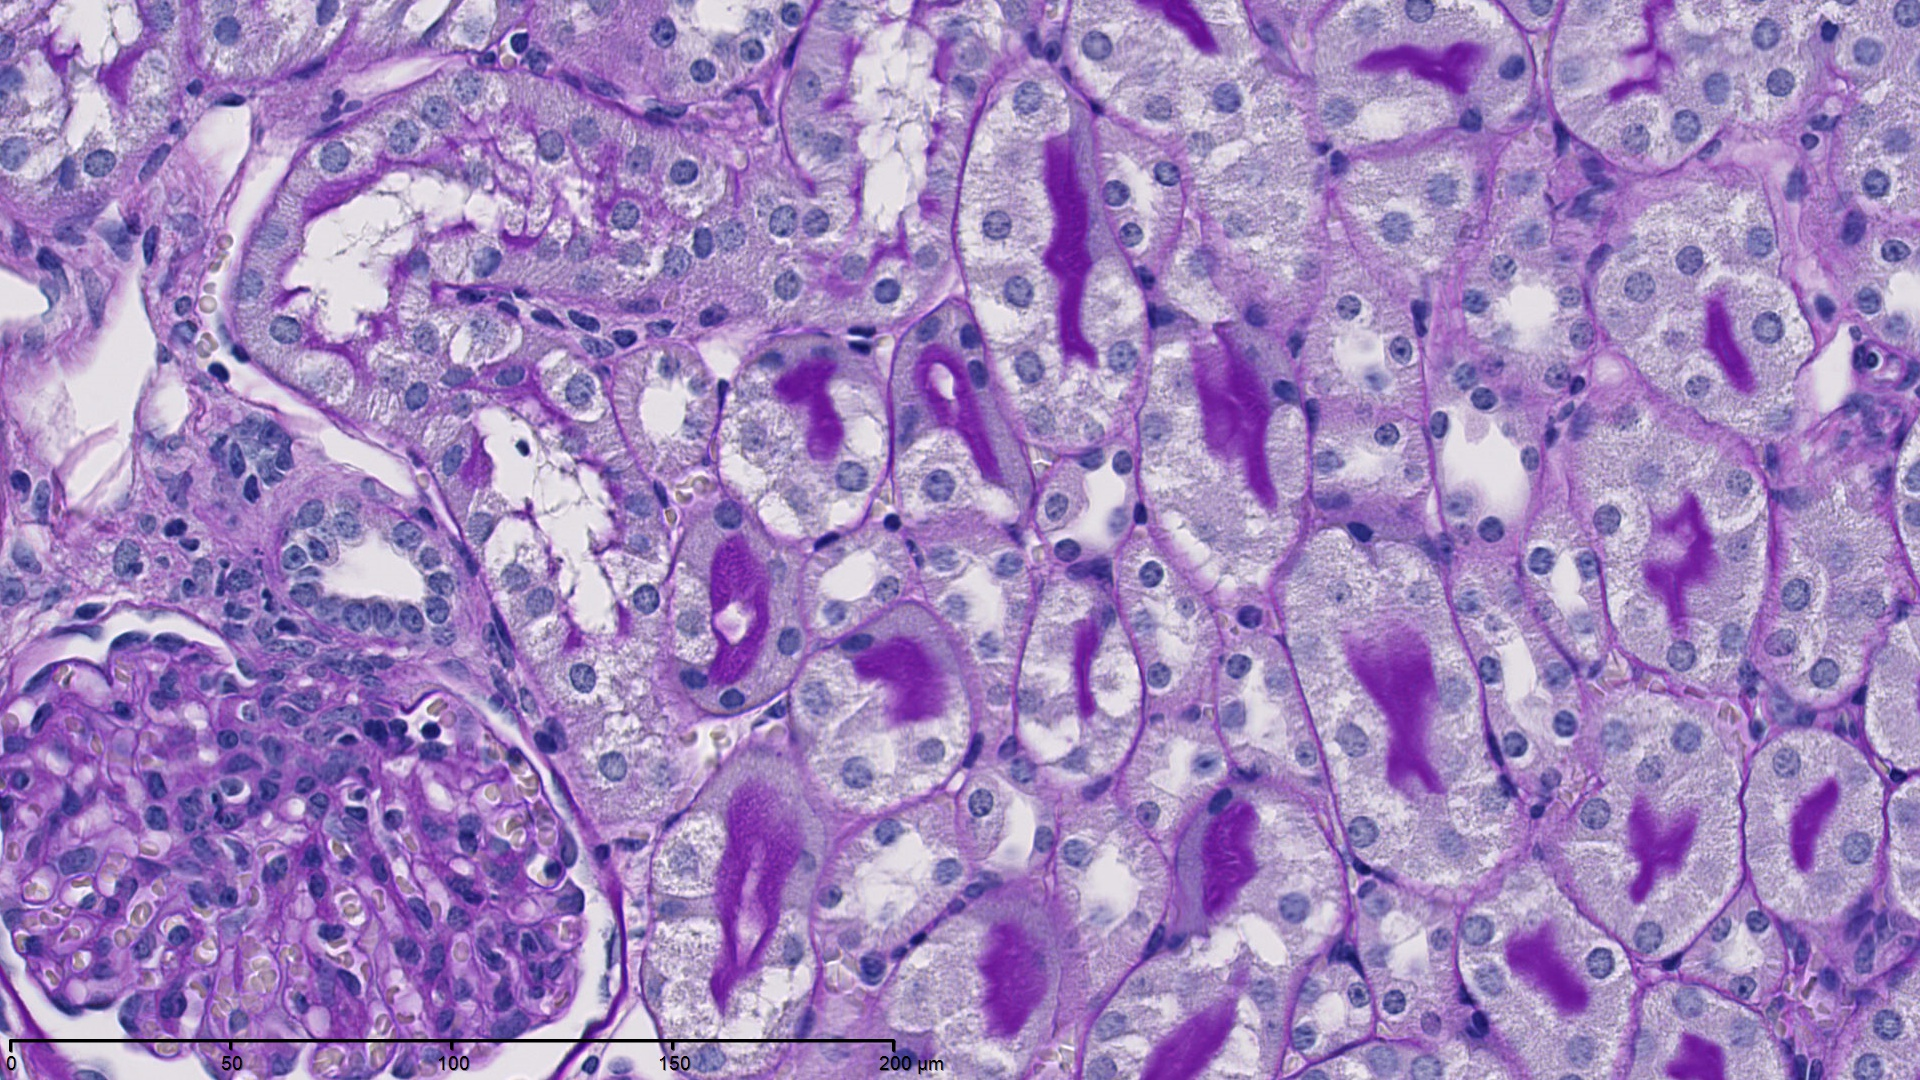Glomeruli: (5, 595, 618, 1080)
